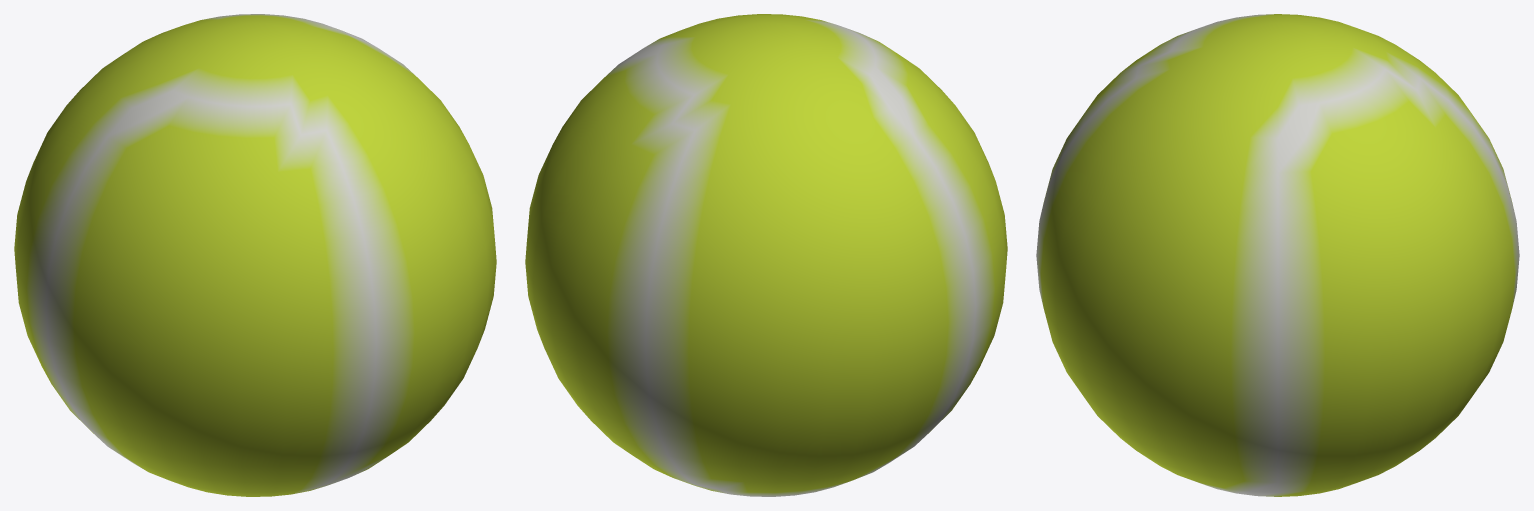
The model's file is tennis_ball.glb.
The picture shows the model from 3 angles, left to right: view 1: azimuth 30°, elevation 25°; view 2: azimuth 150°, elevation 25°; view 3: azimuth 270°, elevation 25°; orthographic projection.
Visible parts, largest first — view 1: tennis_ball; view 2: tennis_ball; view 3: tennis_ball.
Boxes of the visible parts, <box> form: tennis_ball: <box>14,14,496,496</box>; tennis_ball: <box>525,14,1007,496</box>; tennis_ball: <box>1036,14,1519,496</box>.
Size of the model in its own units: 0.068 by 0.068 by 0.068.
